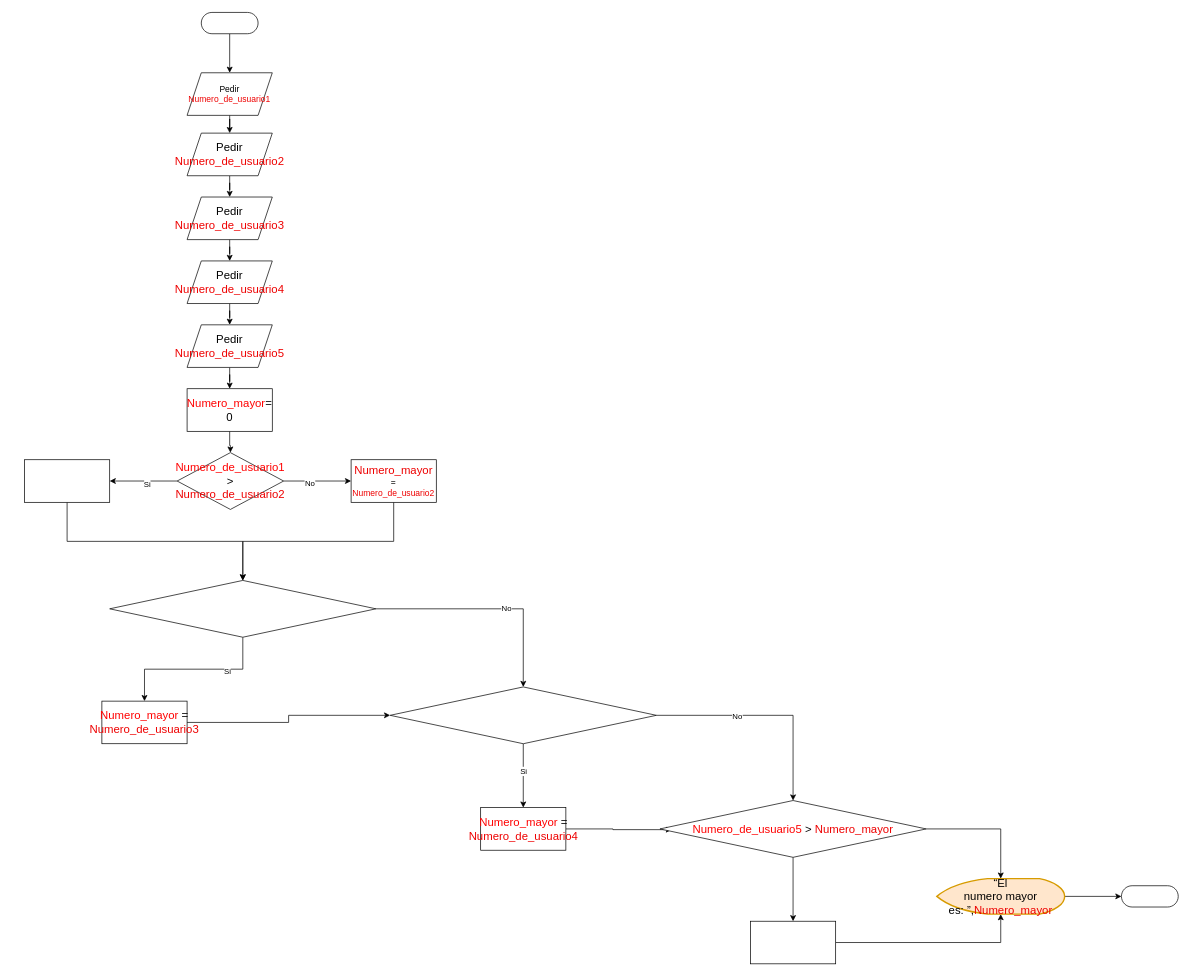
Some shapes in this 1191 by 976 pixel diagram are drawn without their labels. The centre of each missing label's shape, as x and y in pixels:
Fin: (1149,896)
Inicio: (229,23)
Numero_de_usuario3 > Numero_mayor: (242,608)
Numero_de_usuario4 > Numero_mayor: (522,715)
Numero_mayor = Numero_de_usuario1: (67,480)
Numero_mayor = Numero_de_usuario5: (793,942)
